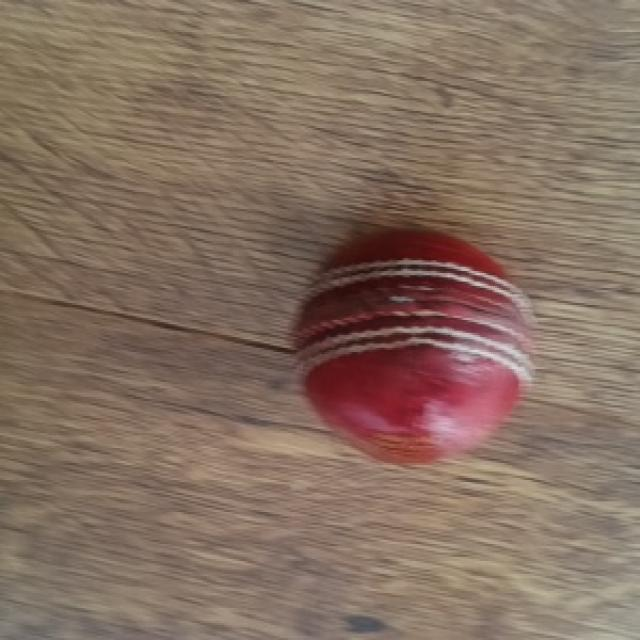ball: (292, 224, 535, 471)
